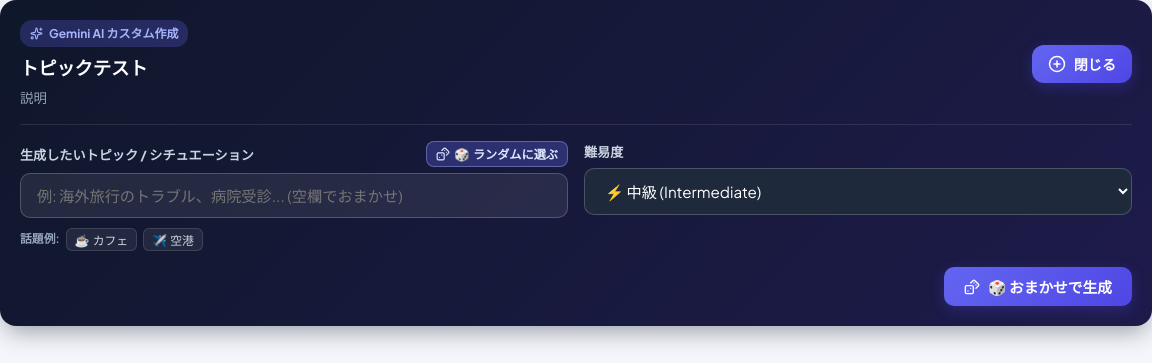
Test: CustomTopicGenerator component › populates topic via suggestion chips and random button
Expected: the field with placeholder "例: 海外旅行のトラブル、病院受診... (空欄でおまかせ)" is empty, [20,173,568,218]
Note: Click chip
Click the button "☕ カフェ" at (101, 240), box [66,228,137,251]
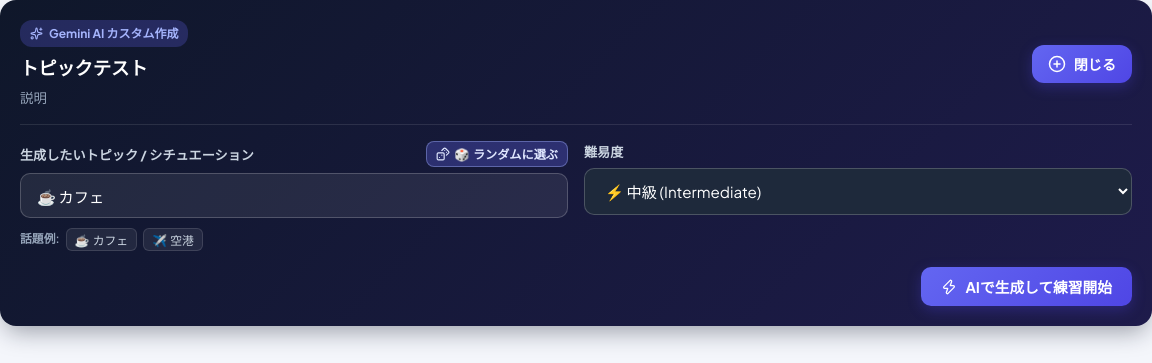
Result: the field with placeholder "例: 海外旅行のトラブル、病院受診... (空欄でおまかせ)" holds "☕ カフェ" at [20,173,568,218]
Note: Click random
Click the button "🎲 ランダムに選ぶ" at (497, 154), box [426,141,568,167]
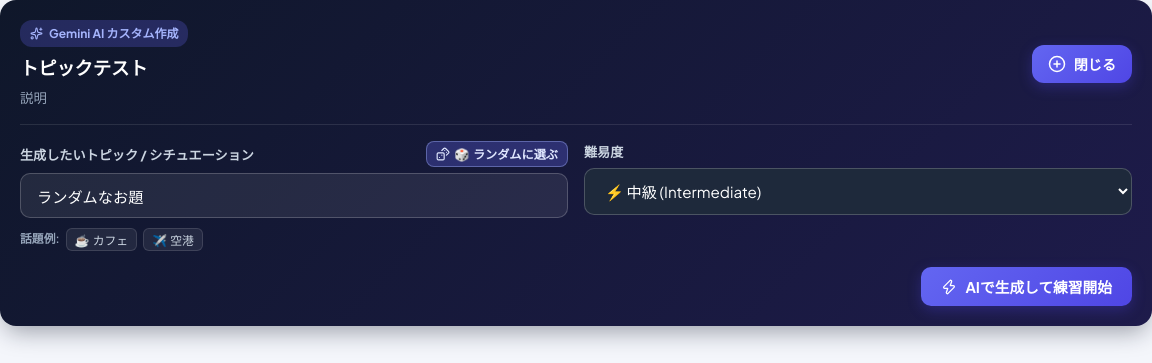
Result: the field with placeholder "例: 海外旅行のトラブル、病院受診... (空欄でおまかせ)" holds "ランダムなお題" at [20,173,568,218]
